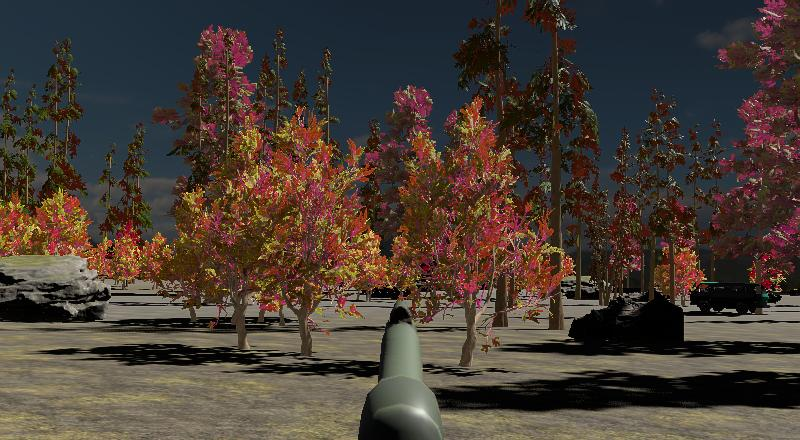car: (689, 281, 766, 315)
